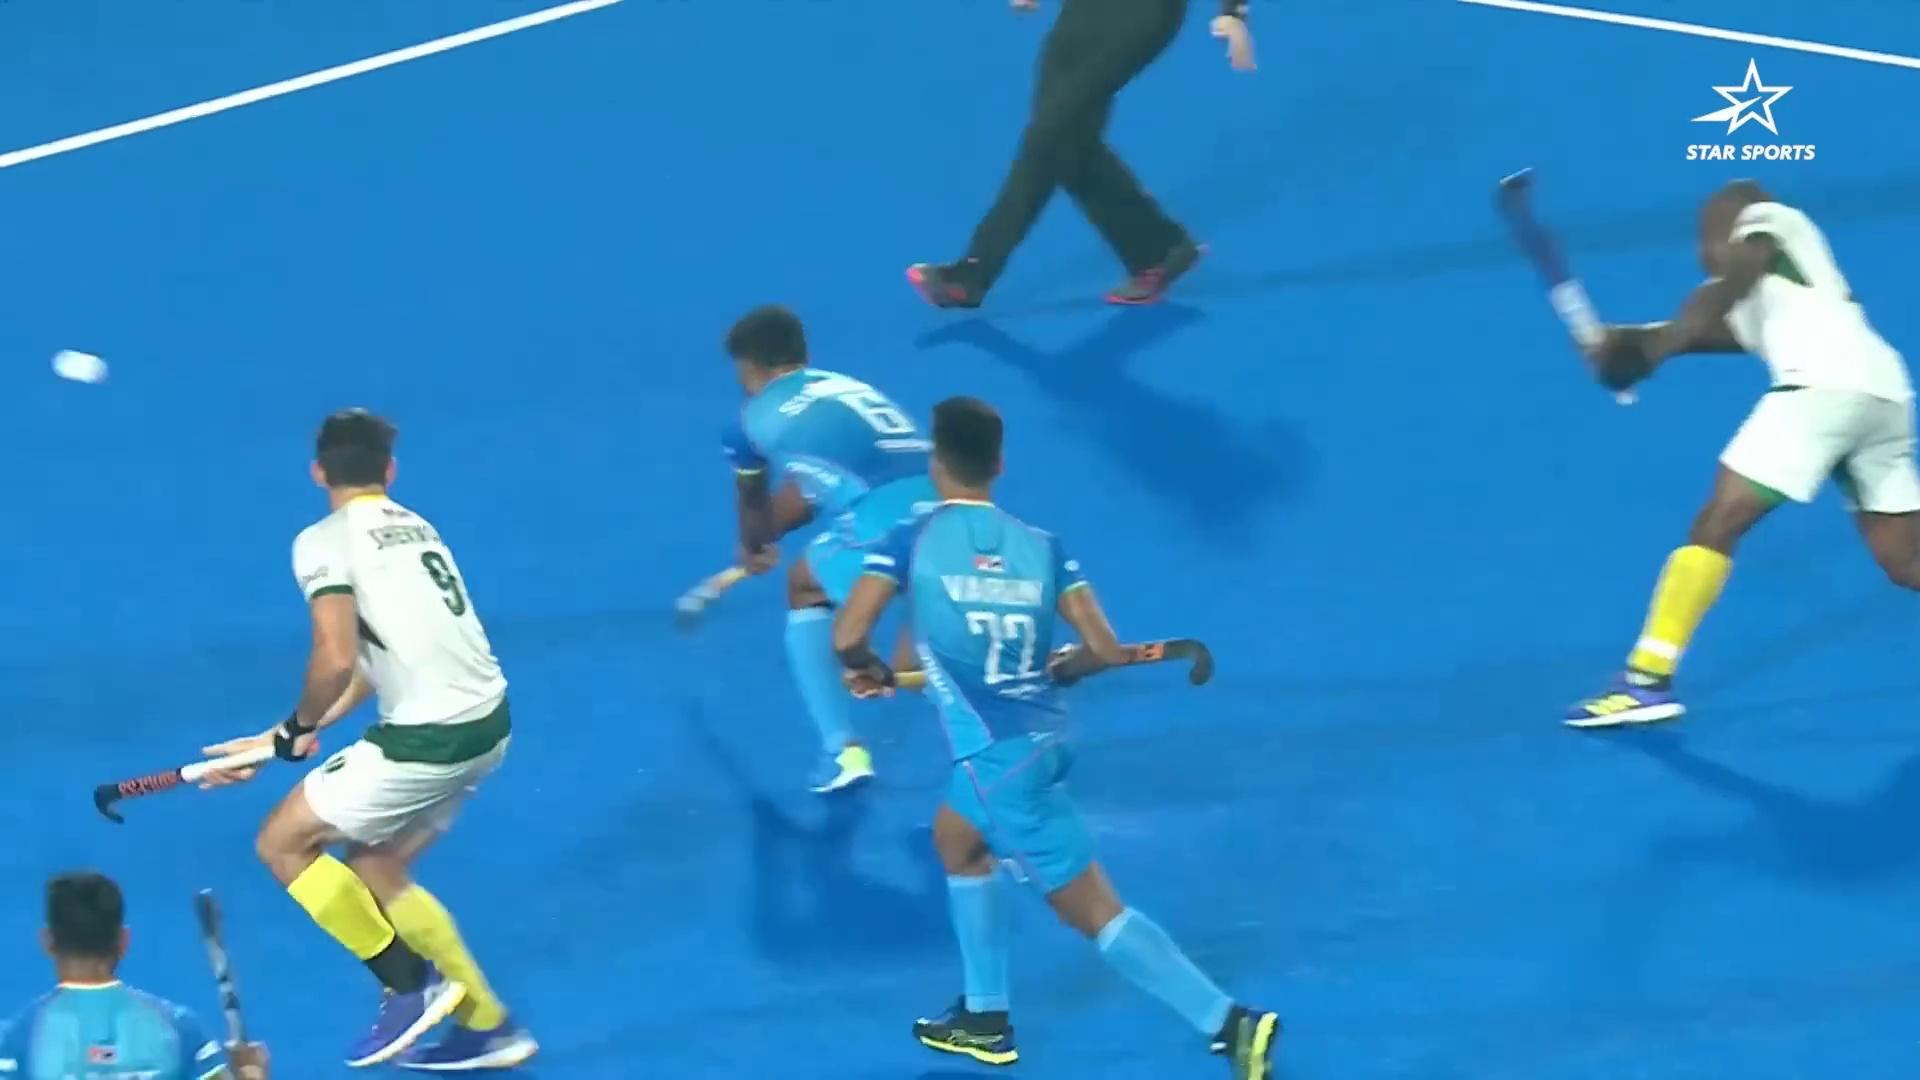ball: (33, 334, 116, 400)
